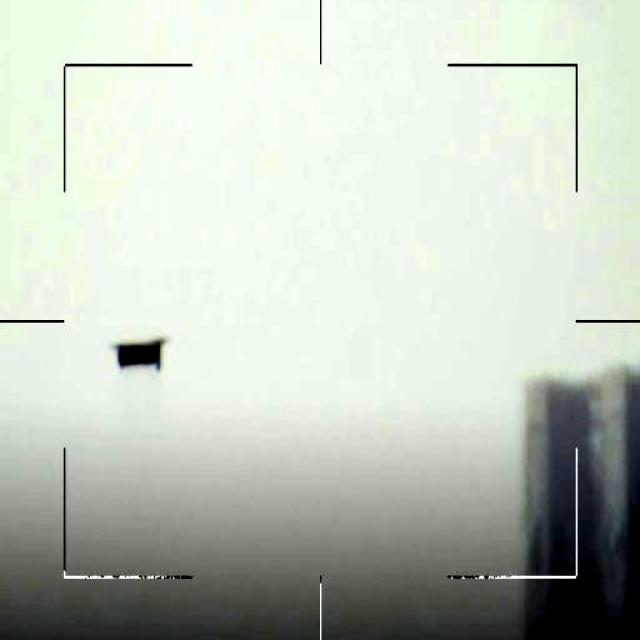bird: (110, 335, 166, 372)
